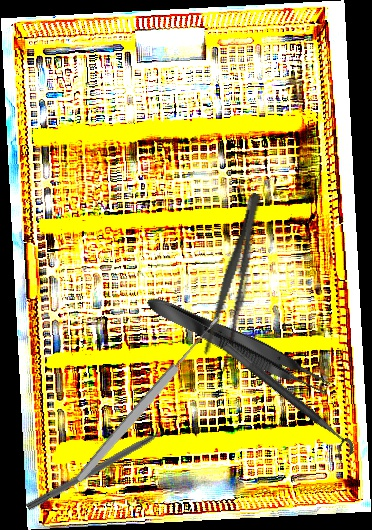Dressing Forceps: (199, 189, 270, 374)
Fixation Ring: (213, 341, 359, 465)
Pusher: (25, 419, 183, 513)
Surgical Spoon: (72, 313, 225, 486)
Tissue Forceps: (141, 287, 336, 402)
